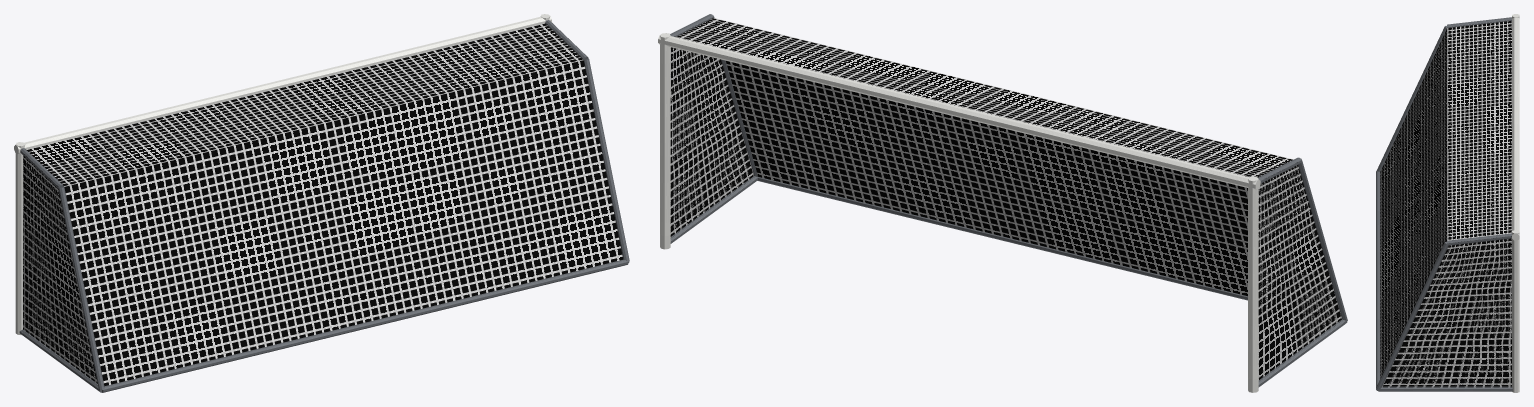
Rendered from soccer_goal.obj.
The picture shows the model from 3 angles, left to right: view 1: azimuth 30°, elevation 25°; view 2: azimuth 150°, elevation 25°; view 3: azimuth 270°, elevation 25°; orthographic projection. The views are drawn at different scales.
Parts seen in each view (by area): view 1: soccer_goal; view 2: soccer_goal; view 3: soccer_goal.
Part boxes in pixels (box(x1,y1,x2,y2)): soccer_goal: box(14, 14, 629, 392); soccer_goal: box(658, 14, 1347, 392); soccer_goal: box(1376, 14, 1519, 392).
Bounding box in the file's own units: 7.56 × 2.56 × 2.09.
